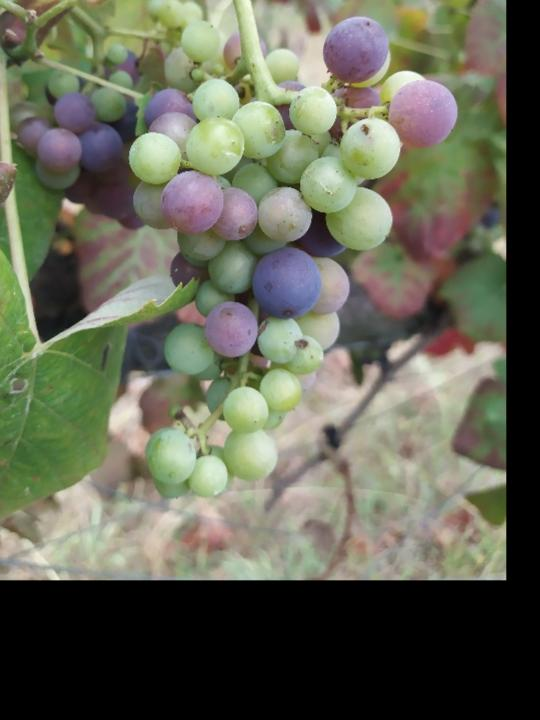grape: (125, 13, 459, 501)
